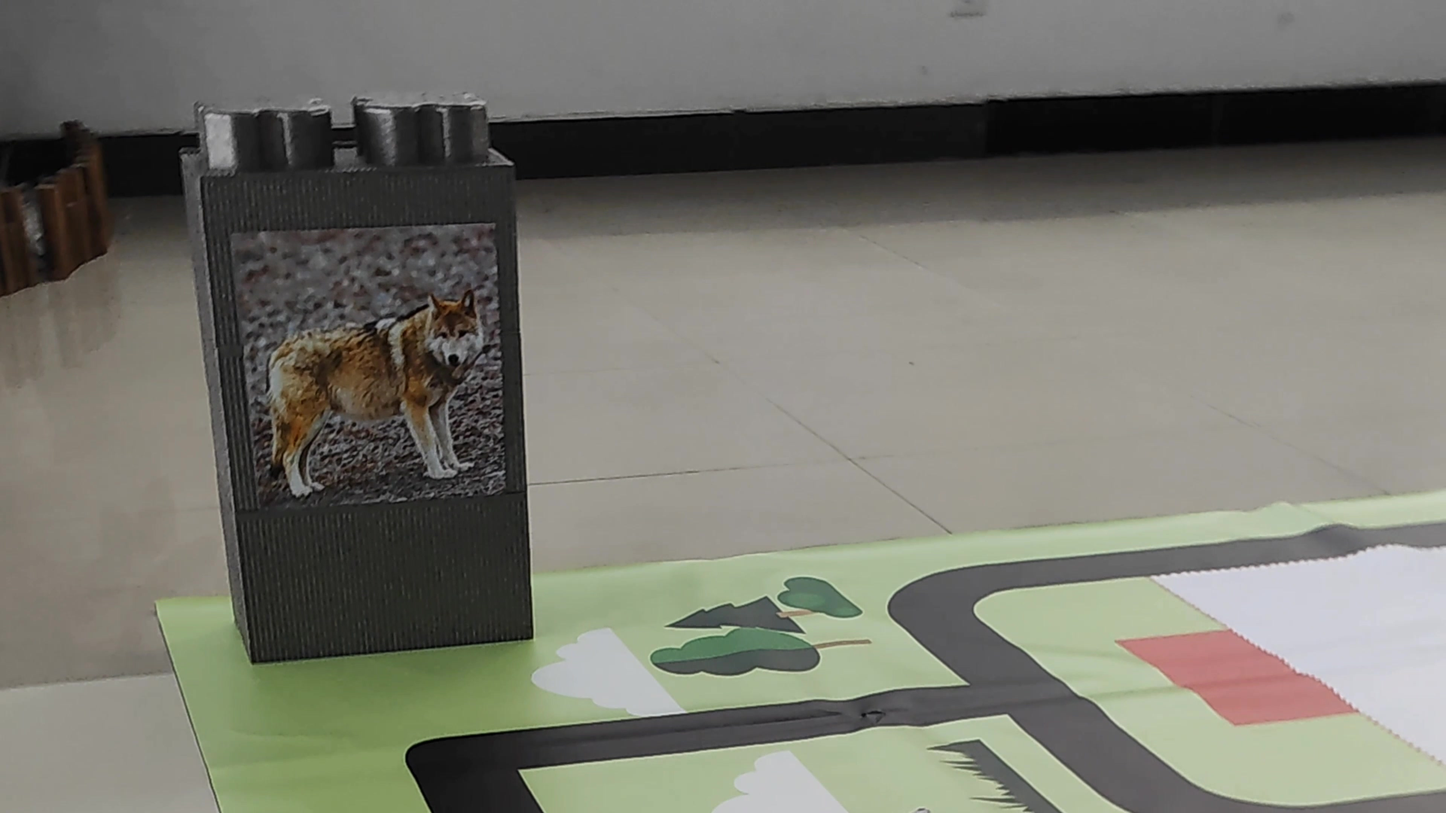wolf: (237, 230, 503, 499)
